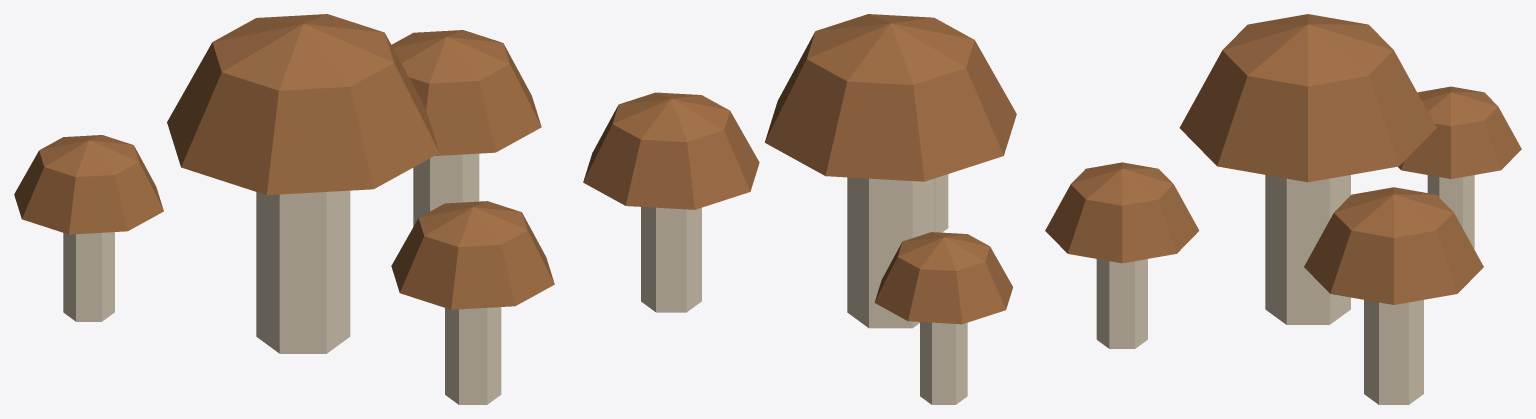
Rendered from nature2_mushroom_cluster.glb.
3 renders of one model, left to right at view 1: azimuth 30°, elevation 25°; view 2: azimuth 150°, elevation 25°; view 3: azimuth 270°, elevation 25°, orthographic. The views are drawn at different scales.
Parts seen in each view (by area): view 1: mushroom_cluster; view 2: mushroom_cluster; view 3: mushroom_cluster.
Boxes of the visible parts, <box> form: mushroom_cluster: <box>14,14,554,404</box>; mushroom_cluster: <box>583,14,1016,404</box>; mushroom_cluster: <box>1045,14,1521,404</box>.
Bounding box in the file's own units: 0.3525 × 0.22 × 0.3335.
